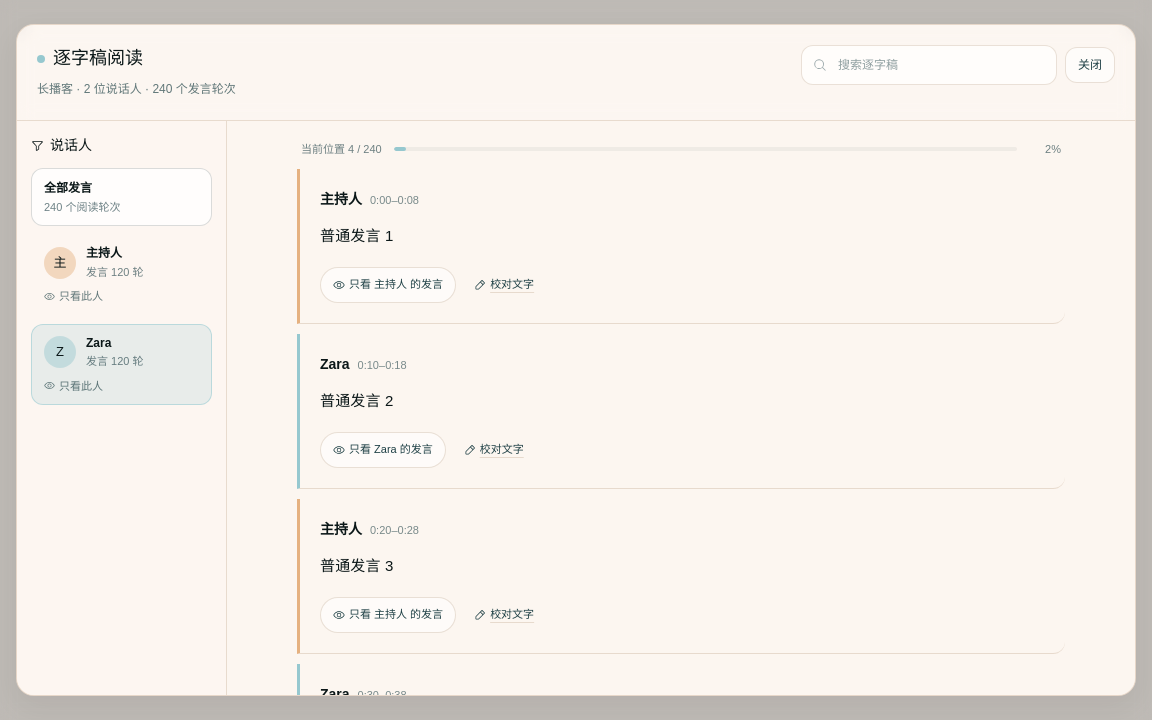
Test: TranscriptConversationModal › 长逐字稿只渲染视口附近发言，并可搜索跳转到远端发言
Expected: the text "这里是第 121 处远端关键词" is not shown
Focus the element named "发言 1，主持人，0:00 到 0:08" at (681, 246), box [297, 169, 1065, 324]
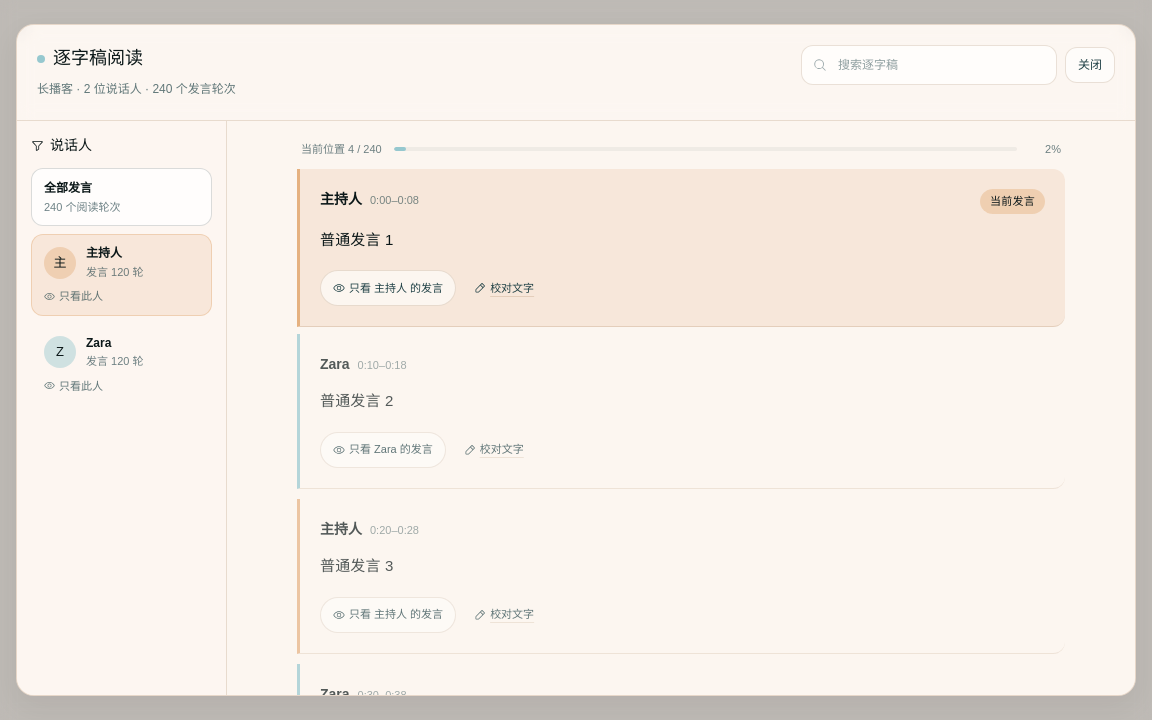
Press ArrowDown in the element named "发言 1，主持人，0:00 到 0:08", box [297, 169, 1065, 327]
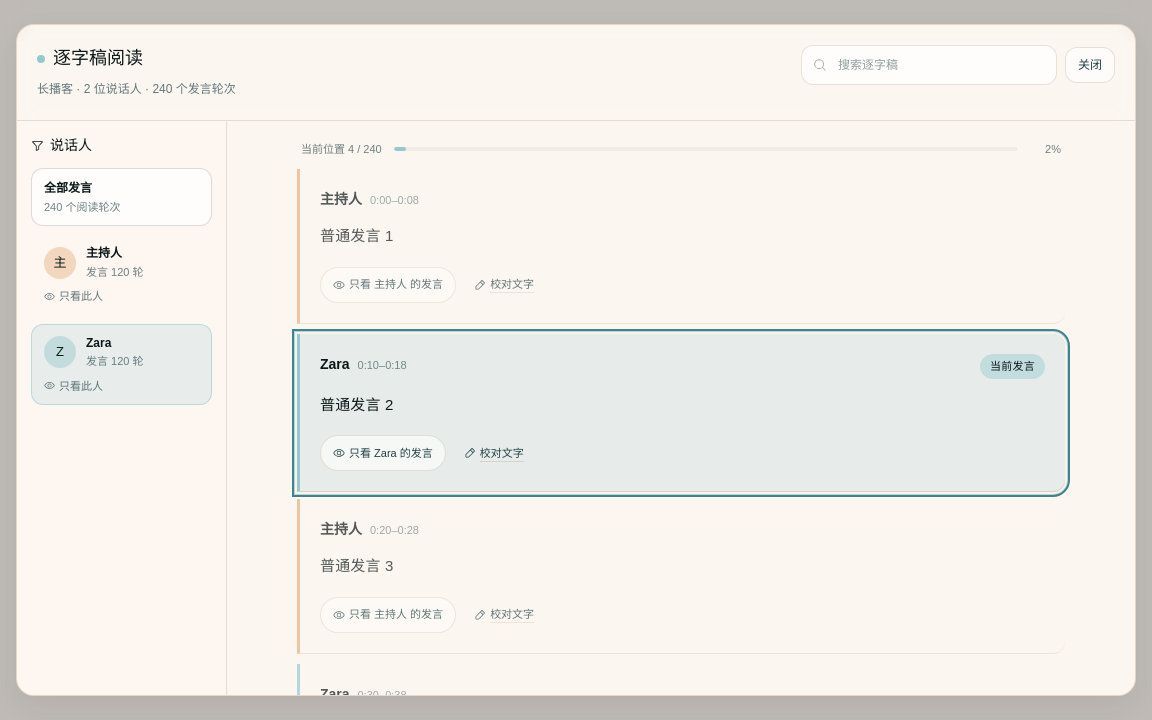
Type "远端关键词" into the search field labelled "搜索逐字稿" at (929, 65), box [801, 45, 1057, 85]
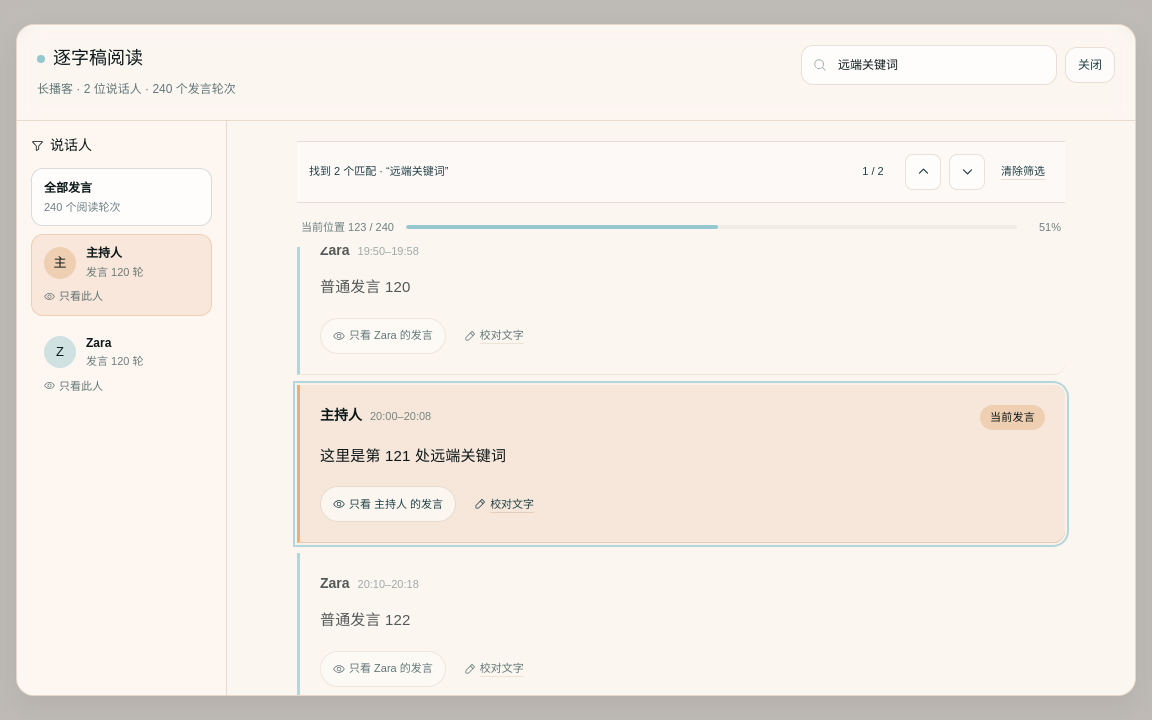
Expected: the text "这里是第 121 处远端关键词" is shown, [320, 446, 506, 464]
Expected: the text "1 / 2" is shown, [862, 165, 884, 177]
Press Enter in the search field named "搜索逐字稿", box [801, 45, 1057, 85]
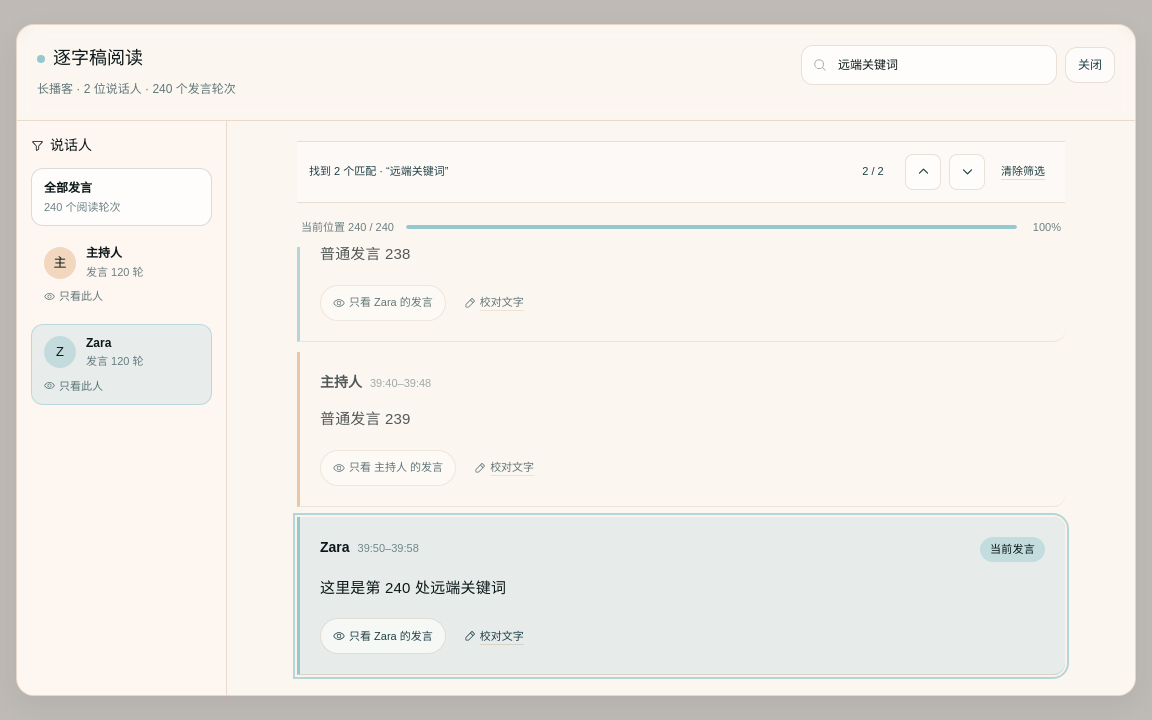
Expected: the text "这里是第 240 处远端关键词" is shown, [320, 578, 506, 596]
Expected: the text "2 / 2" is shown, [862, 165, 884, 177]
Press Enter in the search field named "搜索逐字稿", box [801, 45, 1057, 85]
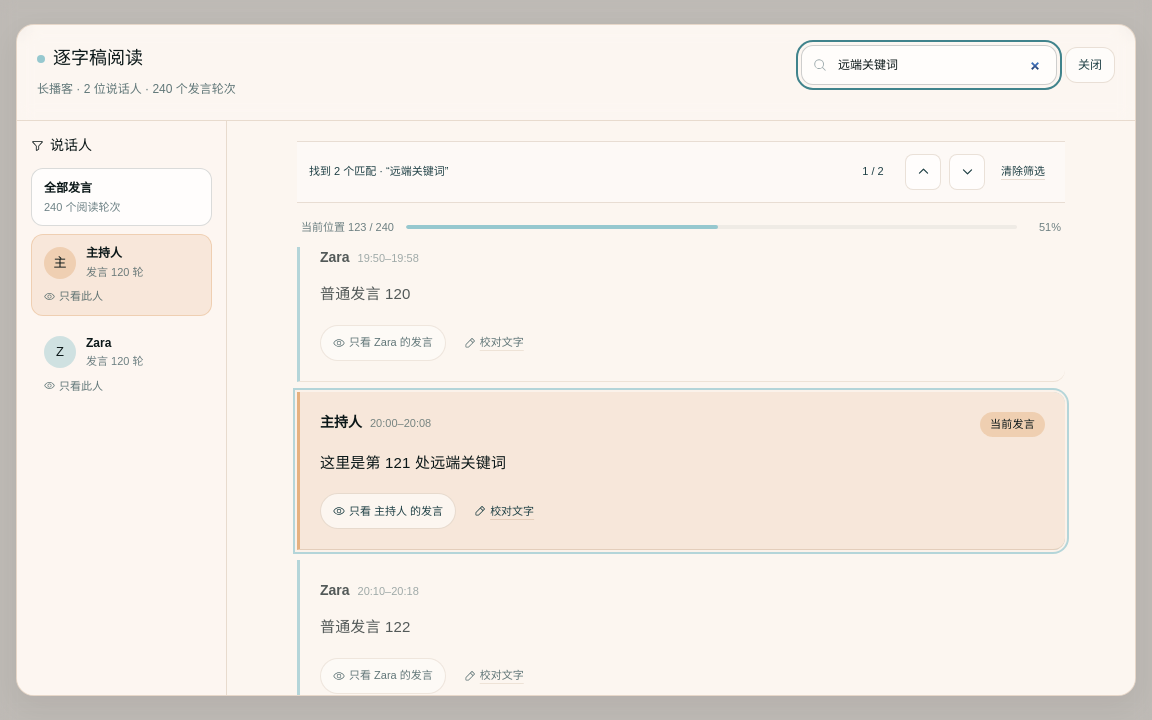
Expected: the text "1 / 2" is shown, [862, 165, 884, 177]
